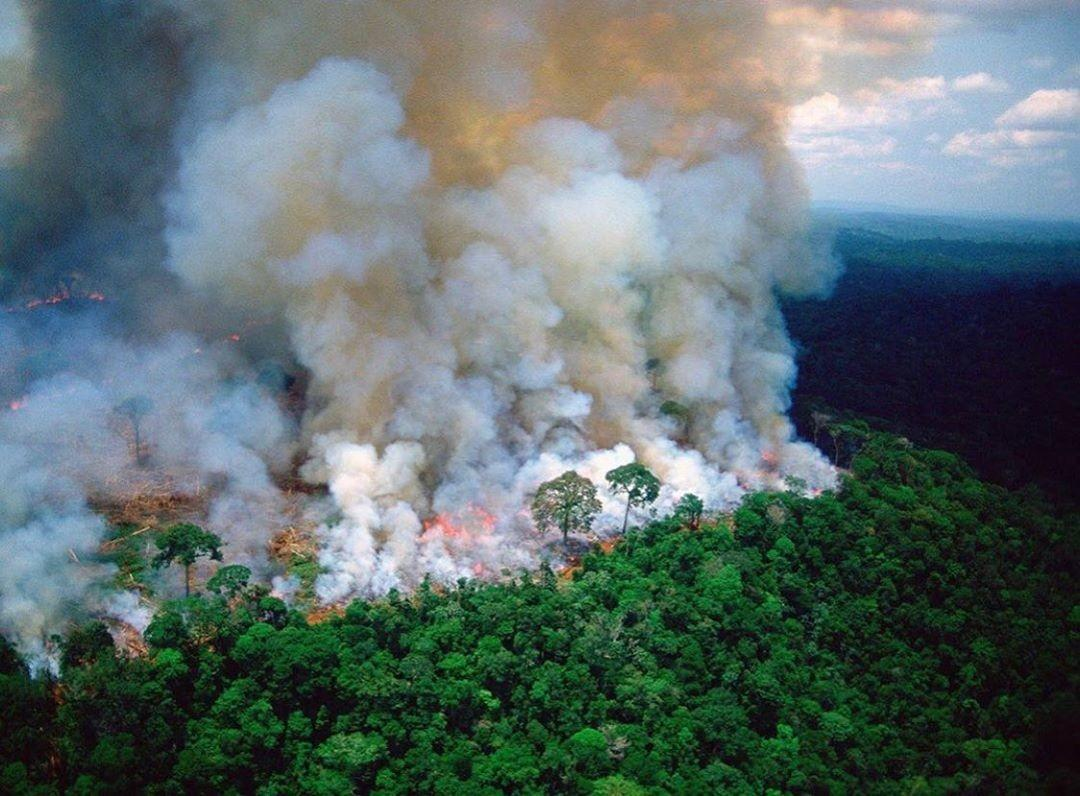fire: (45, 445, 718, 706)
